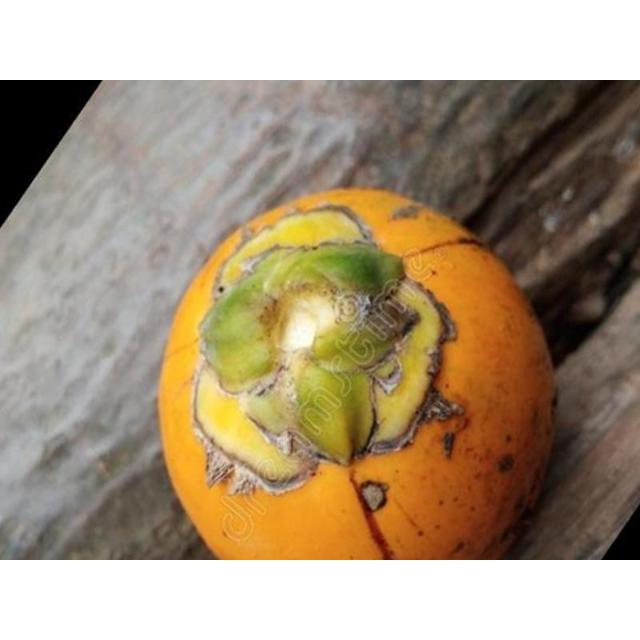good: (156, 194, 553, 559)
